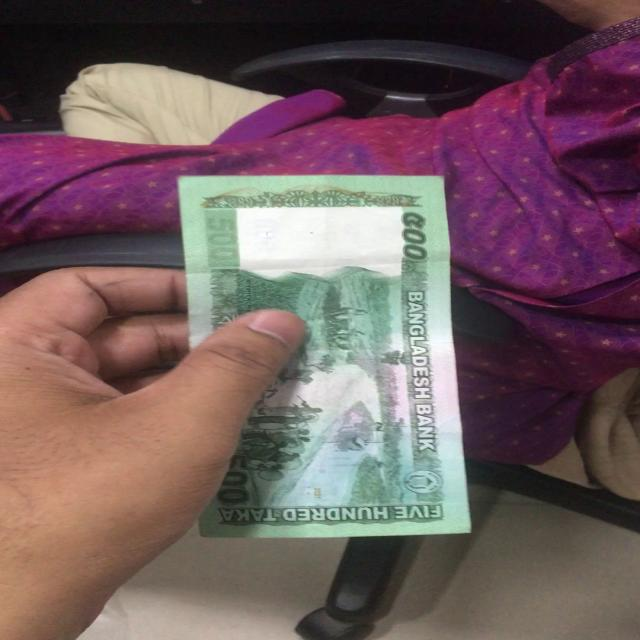Taka: (175, 178, 475, 528)
